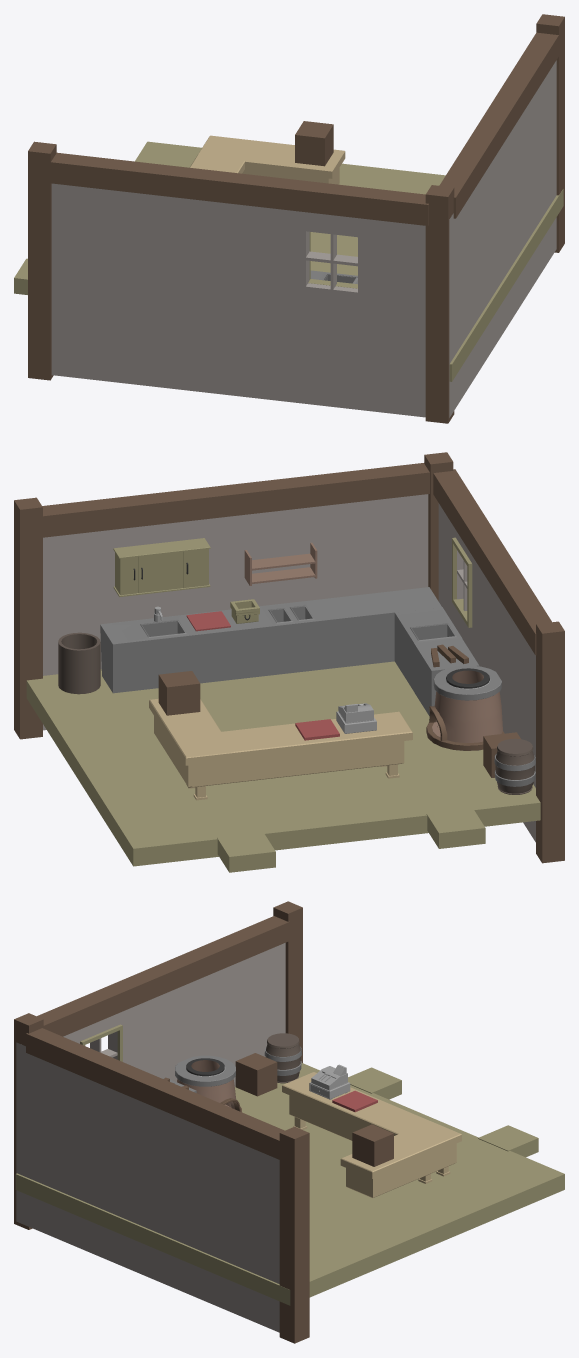
The model's file is myo_MainMap_Early.fbx.
3 renders of one model, top to bottom at view 1: azimuth 30°, elevation 25°; view 2: azimuth 150°, elevation 25°; view 3: azimuth 270°, elevation 25°, orthographic. The views are drawn at different scales.
Visible parts, largest first — view 1: polySurface43; view 2: polySurface43; view 3: polySurface43.
Part boxes in pixels (x1,y1,x2,y2): polySurface43: (14,14,564,423); polySurface43: (14,452,564,872); polySurface43: (14,901,564,1343).
Bounding box in the file's own units: 1620 × 649 × 1586.
